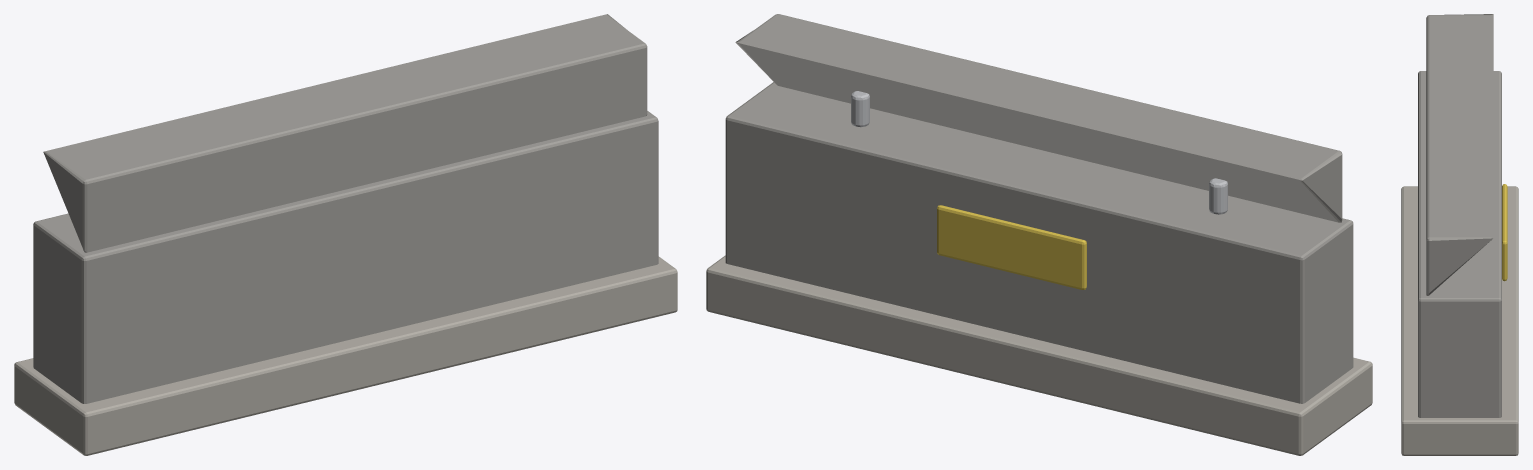
The model's file is barrier_concrete_2.fbx.
3 renders of one model, left to right at view 1: azimuth 30°, elevation 25°; view 2: azimuth 150°, elevation 25°; view 3: azimuth 270°, elevation 25°, orthographic. The views are drawn at different scales.
Visible parts, largest first — view 1: barrier_concrete_2; view 2: barrier_concrete_2; view 3: barrier_concrete_2.
Boxes of the visible parts, bbox=[...] form: barrier_concrete_2: bbox=[14, 14, 677, 455]; barrier_concrete_2: bbox=[706, 14, 1372, 455]; barrier_concrete_2: bbox=[1401, 14, 1518, 455].
Size of the model in its own units: 2 by 0.84 by 0.42.
